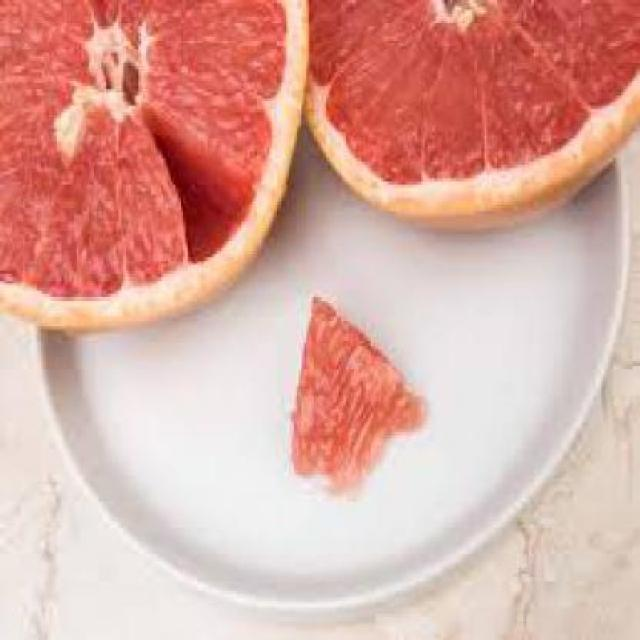BIODEGRADABLE: (0, 0, 308, 331), (299, 0, 638, 228), (284, 290, 425, 485)
